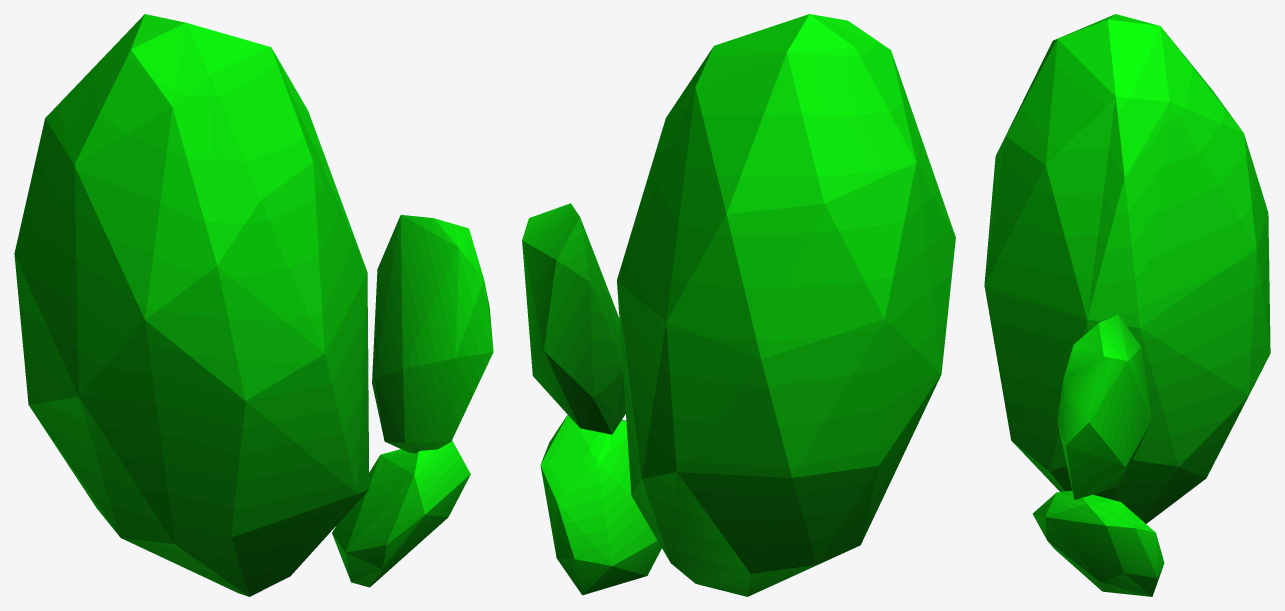
The model's file is Prefab_Foliage_Tree_Birch_Leaves_B.glb.
3 renders of one model, left to right at view 1: azimuth 30°, elevation 25°; view 2: azimuth 150°, elevation 25°; view 3: azimuth 270°, elevation 25°, orthographic. The views are drawn at different scales.
Visible parts, largest first — view 1: BirchTree_B_Trunk.001; view 2: BirchTree_B_Trunk.001; view 3: BirchTree_B_Trunk.001.
Boxes of the visible parts, left/top/right/bottom form: BirchTree_B_Trunk.001: left=14, top=14, right=493, bottom=596; BirchTree_B_Trunk.001: left=522, top=14, right=955, bottom=596; BirchTree_B_Trunk.001: left=984, top=14, right=1270, bottom=596.
Bounding box in the file's own units: 3.92 × 5.47 × 2.84.
1 material, 1 textured.
